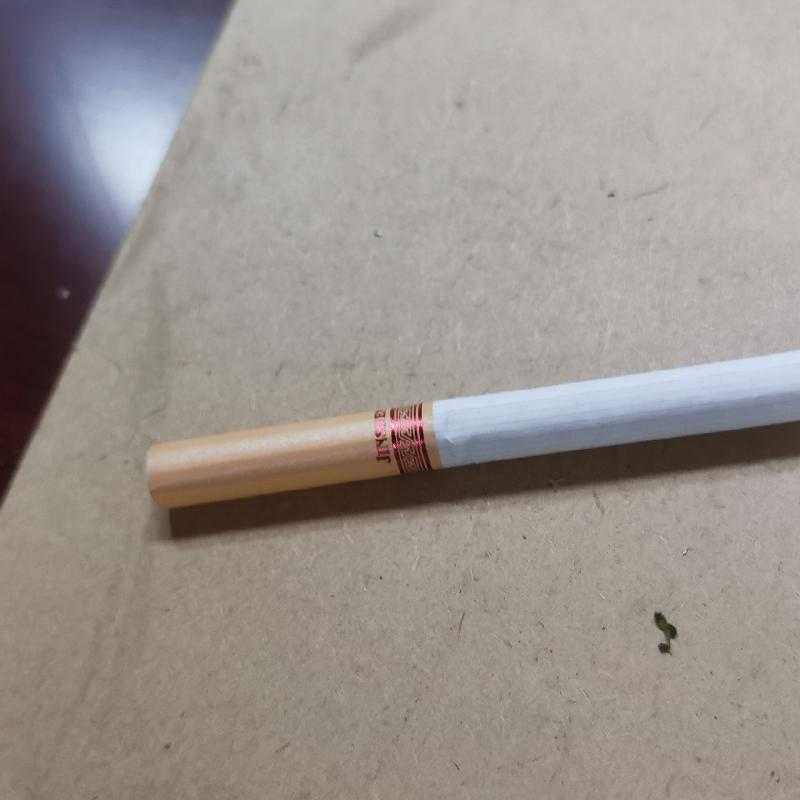cigarette: (147, 347, 800, 554)
